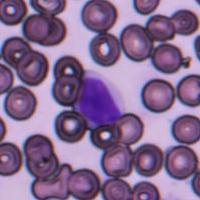L: (74, 70, 126, 128)
